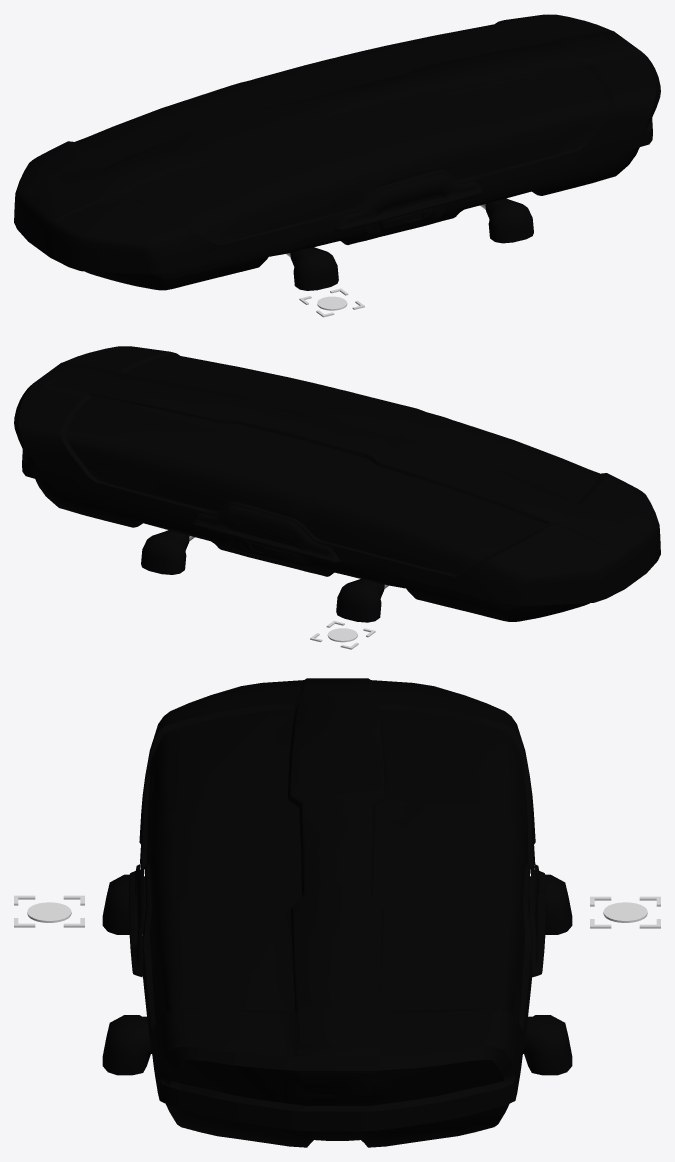
File: --old----Motion XT Alpine 629500-LP.glb
The picture shows the model from 3 angles, top to bottom: view 1: azimuth 30°, elevation 25°; view 2: azimuth 150°, elevation 25°; view 3: azimuth 270°, elevation 25°; orthographic projection. The views are drawn at different scales.
Parts seen in each view (by area): view 1: Thule_motion_XT_Alpine_low, Box013, Box011; view 2: Thule_motion_XT_Alpine_low, Box012, Box010; view 3: Thule_motion_XT_Alpine_low, Box013, Box012, Box011, Box010, Cylinder003, Cylinder004.
Part boxes in pixels (left/top/right/bottom): Thule_motion_XT_Alpine_low: left=14, top=14, right=660, bottom=290; Box013: left=485, top=198, right=533, bottom=243; Box011: left=290, top=247, right=338, bottom=290; Thule_motion_XT_Alpine_low: left=14, top=346, right=660, bottom=621; Box012: left=141, top=530, right=189, bottom=574; Box010: left=336, top=578, right=384, bottom=622; Thule_motion_XT_Alpine_low: left=128, top=678, right=546, bottom=1147; Box013: left=102, top=1015, right=151, bottom=1075; Box012: left=523, top=1015, right=572, bottom=1075; Box011: left=102, top=874, right=146, bottom=934; Box010: left=528, top=874, right=572, bottom=934; Cylinder003: left=27, top=902, right=71, bottom=922; Cylinder004: left=603, top=902, right=647, bottom=922.
Size of the model in its own units: 2.28 by 0.3913 by 1.46.
Materials: 4 (2 with a texture image).
